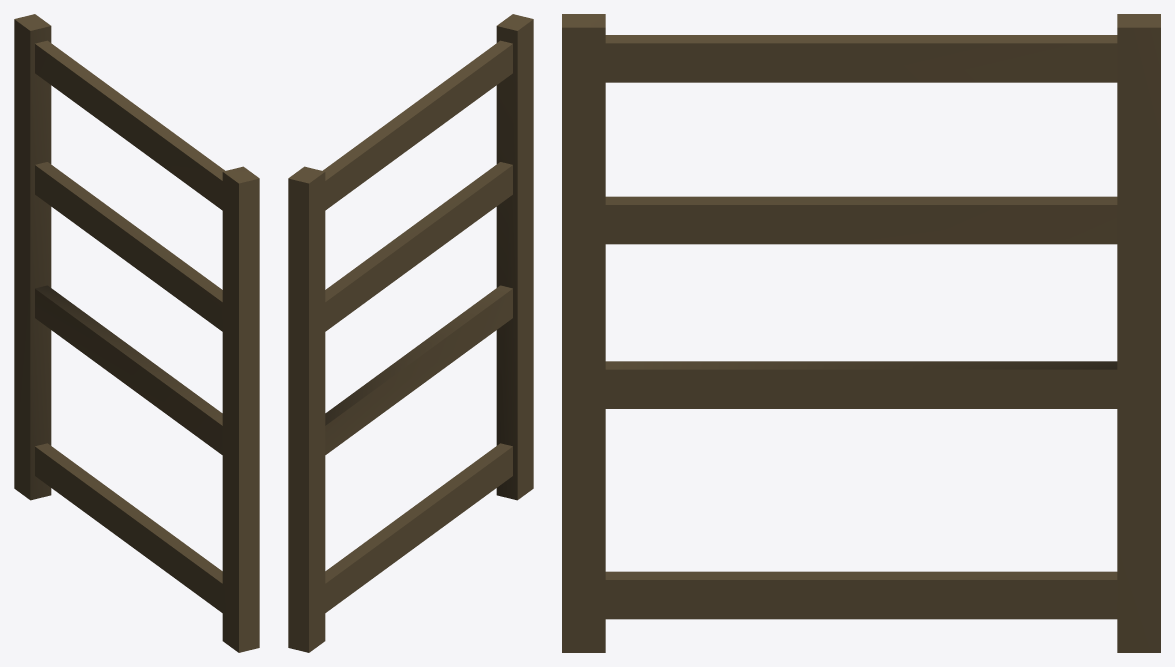
Rendered from Wood_FenceThinTall_Gate.fbx.
The picture shows the model from 3 angles, left to right: view 1: azimuth 30°, elevation 25°; view 2: azimuth 150°, elevation 25°; view 3: azimuth 270°, elevation 25°; orthographic projection. The views are drawn at different scales.
Parts seen in each view (by area): view 1: Wood_FenceThinTall_Gate; view 2: Wood_FenceThinTall_Gate; view 3: Wood_FenceThinTall_Gate.
Boxes of the visible parts, left/top/right/bottom form: Wood_FenceThinTall_Gate: left=14, top=14, right=259, bottom=652; Wood_FenceThinTall_Gate: left=288, top=14, right=533, bottom=652; Wood_FenceThinTall_Gate: left=562, top=14, right=1160, bottom=652.
Bounding box in the file's own units: 0.0053 × 0.1135 × 0.0985.
